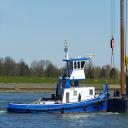tugboat: (6, 40, 109, 116)
